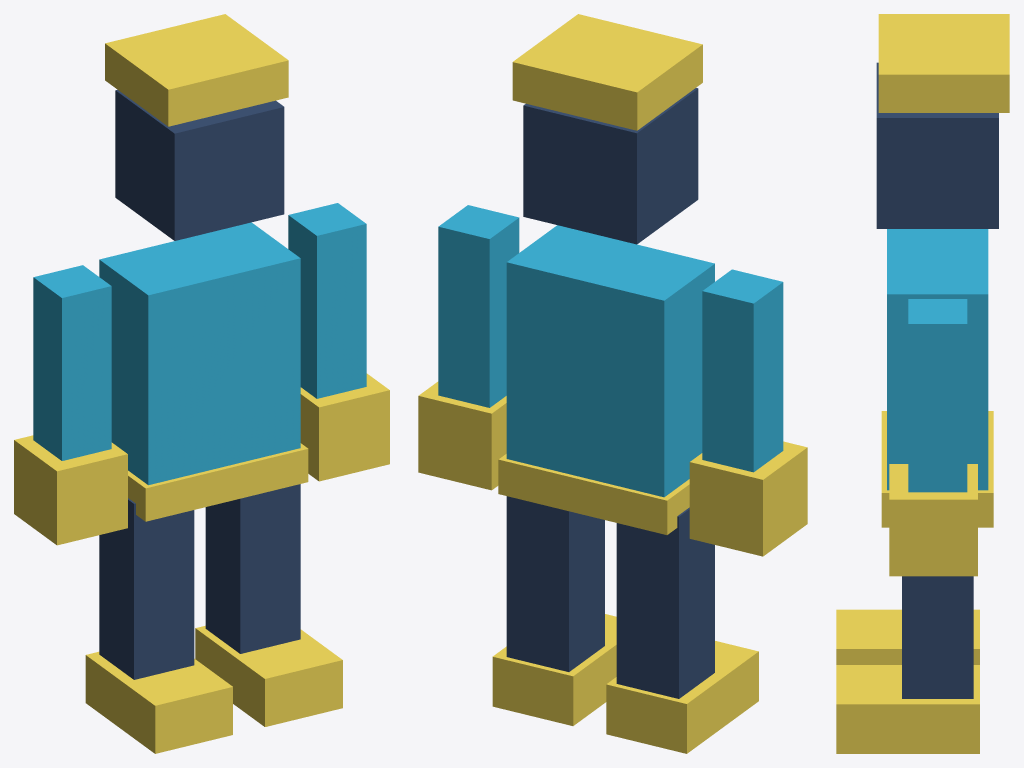
The model's file is fighter-1.glb.
3 views of the same model, side by side, from view 1: azimuth 30°, elevation 25°; view 2: azimuth 150°, elevation 25°; view 3: azimuth 270°, elevation 25° (orthographic). The views are drawn at different scales.
Parts seen in each view (by area): view 1: Torso, Head, Left leg, Hair, Right leg, Left arm, Right arm, Left shoe, Left glove, Right shoe, Right glove, Belt; view 2: Torso, Head, Left leg, Hair, Left arm, Right leg, Right arm, Left glove, Left shoe, Right glove, Belt, Right shoe; view 3: Torso, Head, Hair, Right arm, Right shoe, Right leg, Right glove, Left shoe, Belt.
Boxes of the visible parts, x1,y1,x2,y2 form: Torso: (99,222,300,485); Head: (115,89,284,240); Left leg: (99,498,194,679); Hair: (105,14,288,126); Right leg: (205,484,300,653); Left arm: (33,265,111,460); Right arm: (288,203,366,398); Left shoe: (85,651,232,753); Left glove: (14,435,127,545); Right shoe: (195,625,342,726); Right glove: (300,373,389,481); Belt: (128,443,308,521); Torso: (506,225,714,497); Head: (523,88,698,244); Left leg: (616,507,714,698); Hair: (512,14,702,130); Left arm: (702,269,783,472); Right leg: (506,496,604,671); Right arm: (438,205,519,407); Left glove: (689,441,807,556); Left shoe: (606,641,758,753); Right glove: (418,381,506,490); Belt: (498,454,689,534); Right shoe: (492,614,616,725); Torso: (887,229,988,490); Head: (876,62,998,228); Hair: (878,14,1009,112); Right arm: (908,299,967,492); Right shoe: (836,665,979,753); Right leg: (902,576,973,698); Right glove: (889,464,977,576); Left shoe: (836,609,979,664); Belt: (881,411,993,527).
Bounding box in the file's own units: 1.88 × 3.46 × 0.82.
